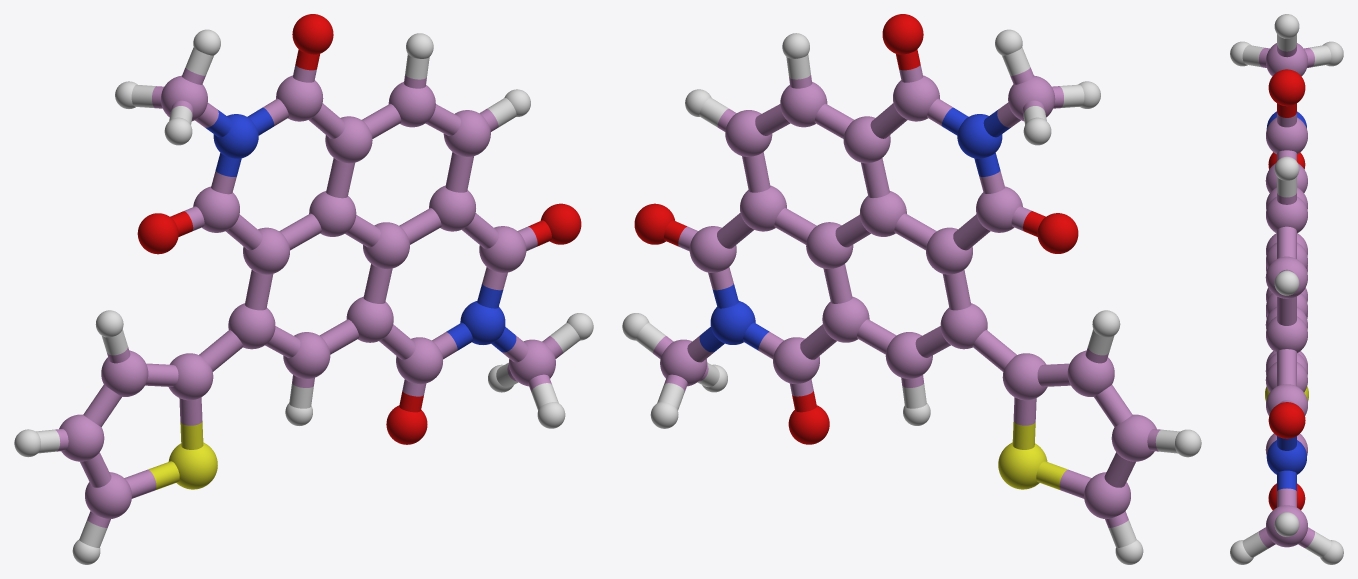
File: pndit_molfile.glb
The picture shows the model from 3 angles, left to right: view 1: azimuth 30°, elevation 25°; view 2: azimuth 150°, elevation 25°; view 3: azimuth 270°, elevation 25°; orthographic projection. The views are drawn at different scales.
Parts seen in each view (by area): view 1: atoms, bonds; view 2: atoms, bonds; view 3: atoms, bonds.
Boxes of the visible parts, bbox=[...] form: atoms: bbox=[14, 14, 593, 564]; bonds: bbox=[36, 47, 580, 547]; atoms: bbox=[622, 14, 1201, 564]; bonds: bbox=[635, 47, 1179, 547]; atoms: bbox=[1230, 14, 1343, 564]; bonds: bbox=[1242, 34, 1331, 557].
Bounding box in the file's own units: 11.97 × 10 × 2.29.
